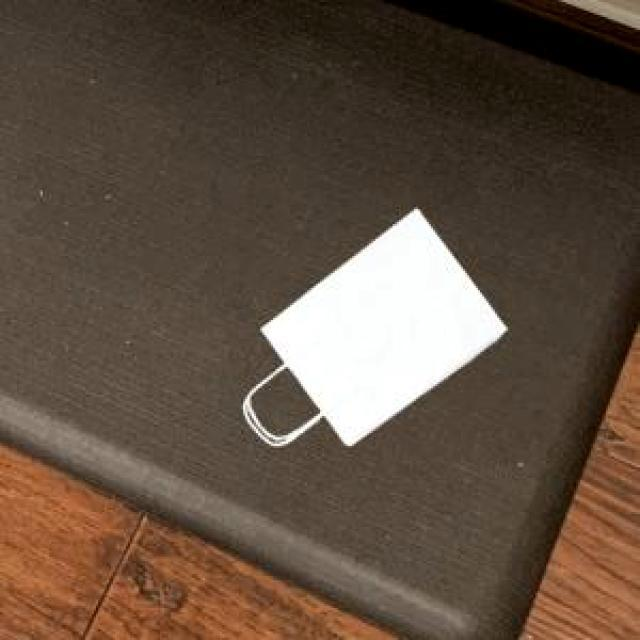Paper_Bag: (260, 206, 504, 443)
